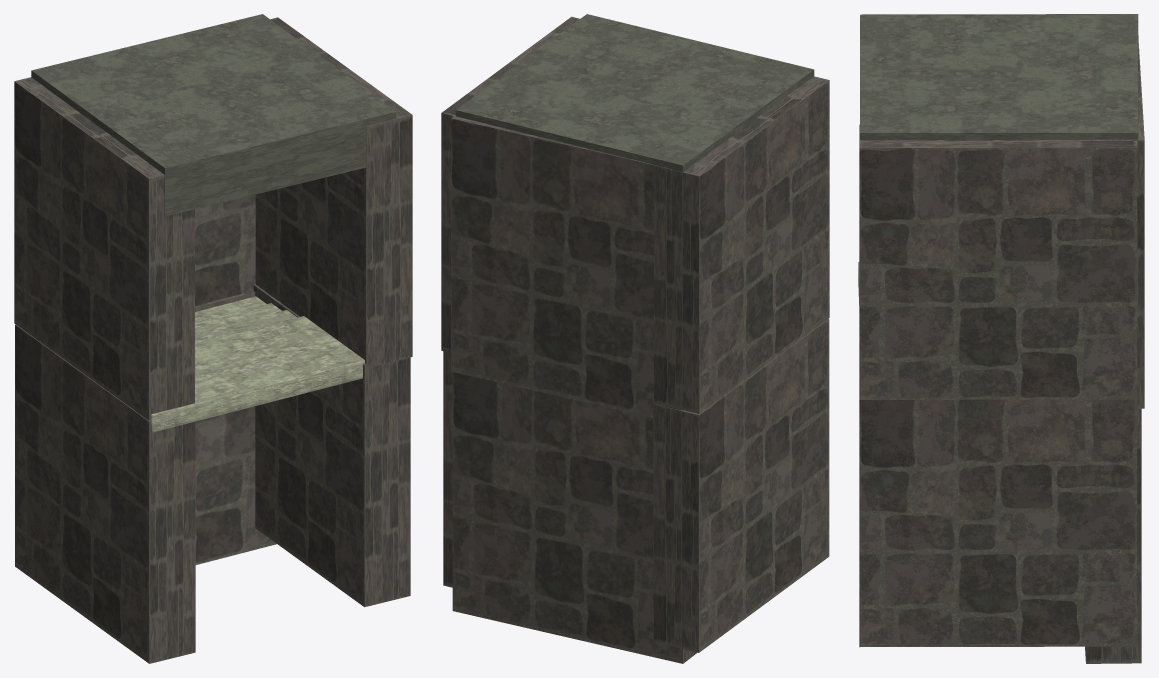
The model's file is Stairs.gltf.
3 renders of one model, left to right at view 1: azimuth 30°, elevation 25°; view 2: azimuth 150°, elevation 25°; view 3: azimuth 270°, elevation 25°, orthographic. The views are drawn at different scales.
Visible parts, largest first — view 1: 立方体.001, 立方体.005, 立方体, 立方体.004, 立方体.002, pedestal, 立方体.007, 立方体.003; view 2: 立方体.003, 立方体.007, 立方体.001, 立方体.005, 立方体, 立方体.002, 立方体.004; view 3: 立方体.002, 立方体.004, 立方体, 立方体.003, 立方体.007, 立方体.001.
Boxes of the visible parts, box(x1,y1,x2,y2) form: 立方体.001: box(14, 77, 194, 420); 立方体.005: box(15, 324, 195, 663); 立方体: box(31, 14, 396, 216); 立方体.004: box(253, 284, 410, 607); 立方体.002: box(255, 17, 412, 368); pedestal: box(150, 296, 364, 432); 立方体.007: box(195, 291, 276, 564); 立方体.003: box(195, 194, 255, 305); 立方体.003: box(451, 115, 681, 417); 立方体.007: box(452, 372, 696, 663); 立方体.001: box(654, 76, 829, 413); 立方体.005: box(653, 319, 829, 652); 立方体: box(455, 14, 814, 171); 立方体.002: box(441, 16, 579, 350); 立方体.004: box(443, 347, 452, 587); 立方体.002: box(859, 124, 1137, 399); 立方体.004: box(859, 399, 1137, 647); 立方体: box(860, 15, 1137, 139); 立方体.003: box(1089, 32, 1144, 408); 立方体.007: box(1085, 408, 1141, 663); 立方体.001: box(860, 14, 1138, 37).
Size of the model in its own units: 11.42 by 21.03 by 10.31.
Materials: 8 (8 with a texture image).
